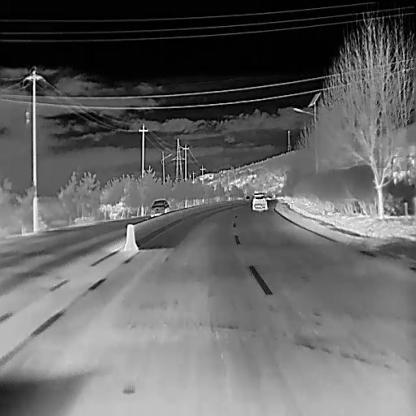car: (149, 198, 169, 217), (252, 193, 267, 210), (246, 195, 250, 201)
